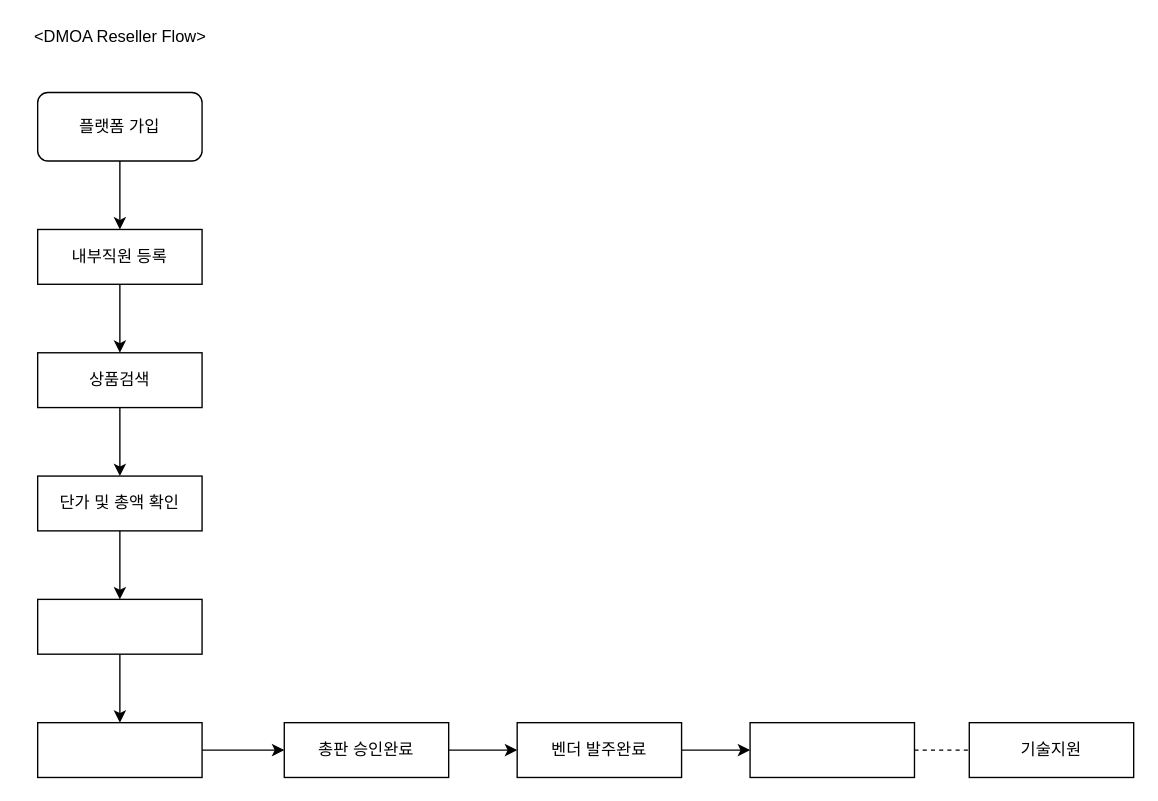
Image size: 1158x801. Some labels were removed from this diagram. Here are the shapes that lost their labels. From the top down, the centre of each, then its label:
At point (119, 626): "End-User 정보 입력".
At point (119, 749): "발주신청".
At point (831, 749): "라이센스 전달".
